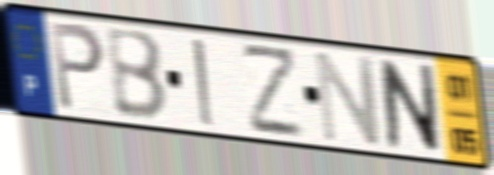B: (102, 27, 171, 125)
I: (190, 35, 218, 131)
N: (312, 48, 385, 147), (377, 56, 443, 157)
P: (47, 18, 107, 115)
Z: (240, 44, 306, 140)
